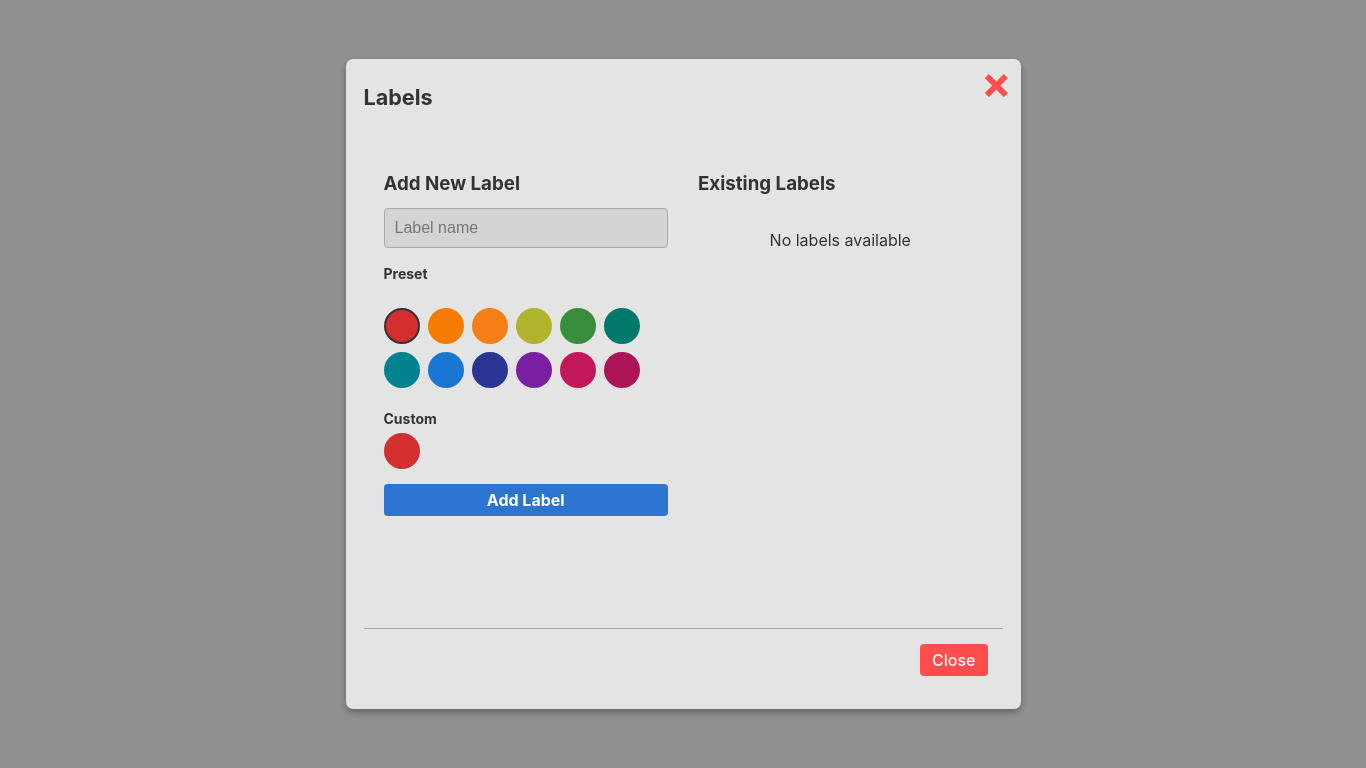
LabelsModal - Integration Tests › Creating a label › should display inline error when duplicate label error occurs on creation
The width and height of the screenshot is (1366, 768).
In the field with placeholder "Label name": (526, 228) left=384, top=208, right=668, bottom=248, type "Duplicate Label"
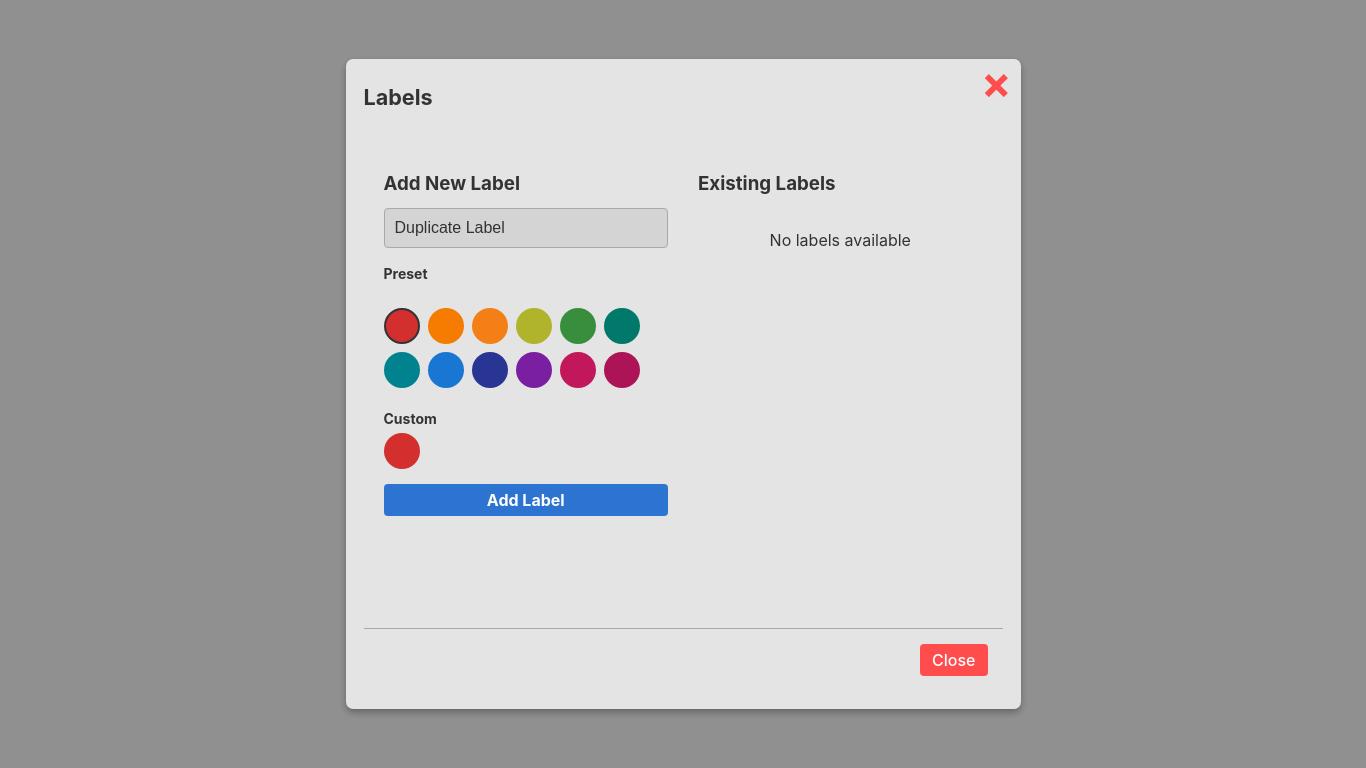
Click the button "Add Label": (526, 500) left=384, top=484, right=668, bottom=516
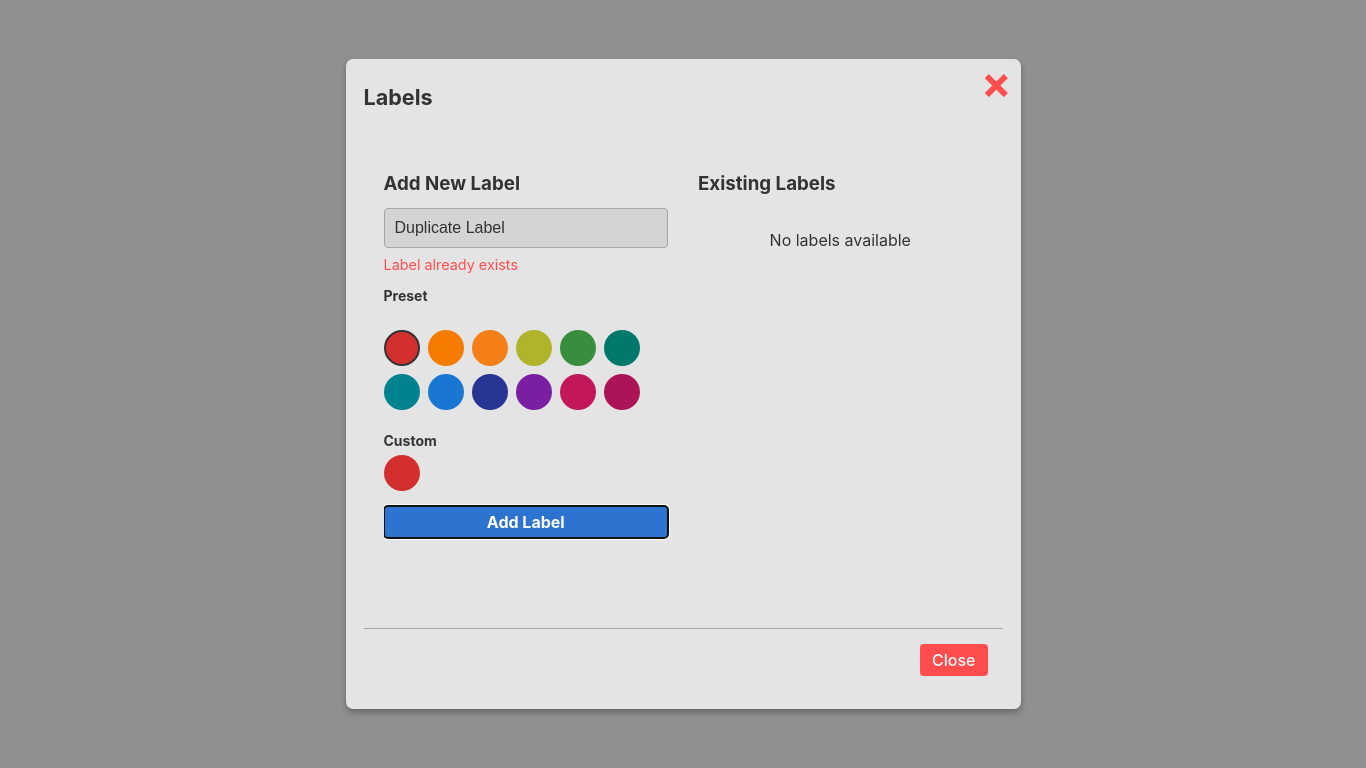
Check: the text "Label already exists" is shown, box left=384, top=256, right=518, bottom=273
